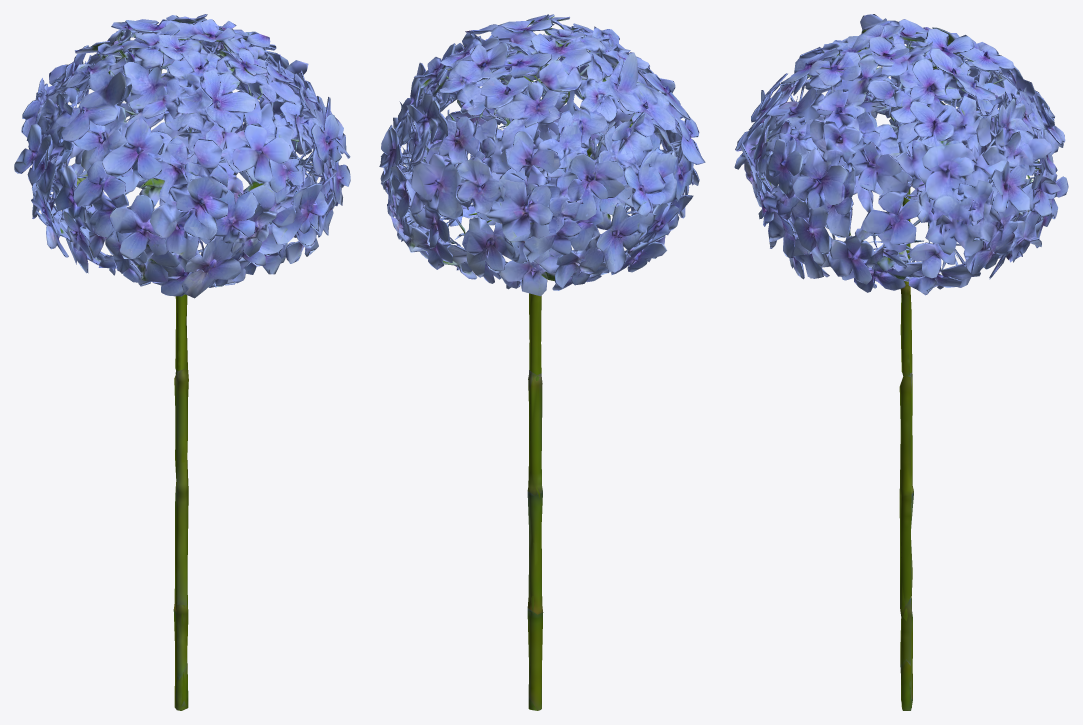
The model's file is hydrangeas.glb.
The picture shows the model from 3 angles, left to right: view 1: azimuth 30°, elevation 25°; view 2: azimuth 150°, elevation 25°; view 3: azimuth 270°, elevation 25°; orthographic projection.
Bounding box in the file's own units: 0.8086 × 1.9 × 0.857.
1 material, 1 textured.
